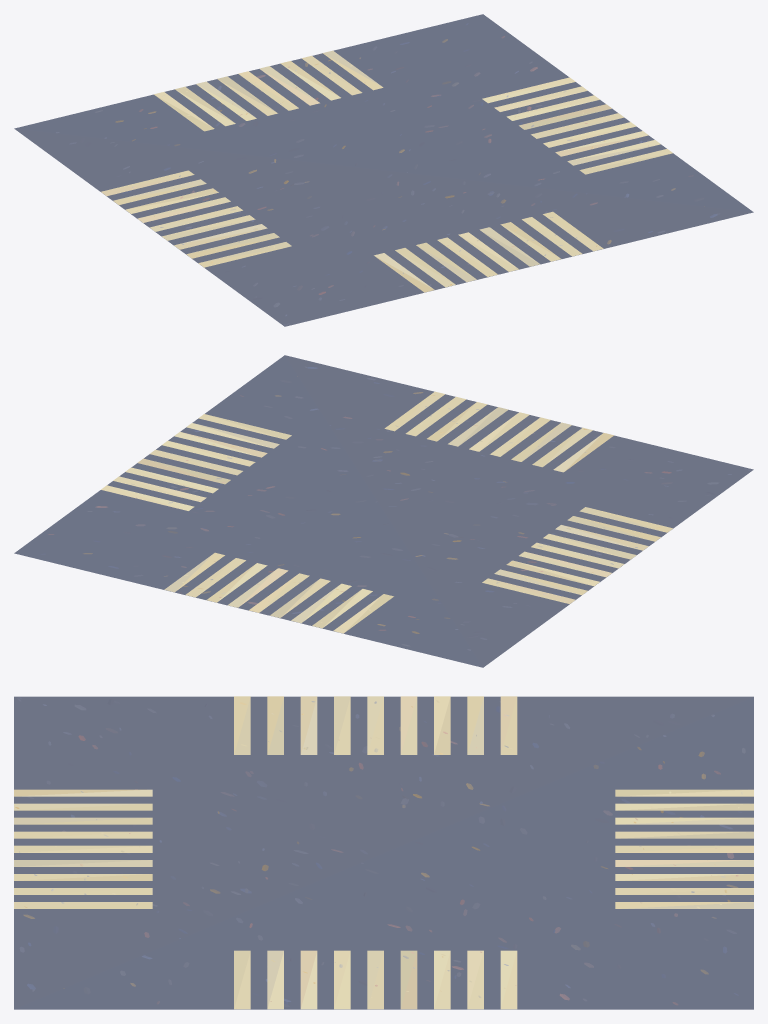
The model's file is HK_RoadSurf_Cross.glb.
The picture shows the model from 3 angles, top to bottom: view 1: azimuth 30°, elevation 25°; view 2: azimuth 150°, elevation 25°; view 3: azimuth 270°, elevation 25°; orthographic projection. The views are drawn at different scales.
Parts seen in each view (by area): view 1: HK_RoadSurf_Cross; view 2: HK_RoadSurf_Cross; view 3: HK_RoadSurf_Cross.
Part boxes in pixels (box(x1,y1,x2,y2)): HK_RoadSurf_Cross: box(14, 14, 753, 326); HK_RoadSurf_Cross: box(14, 355, 753, 667); HK_RoadSurf_Cross: box(14, 696, 753, 1009).
Size of the model in its own units: 20 by 0.0144 by 20.
